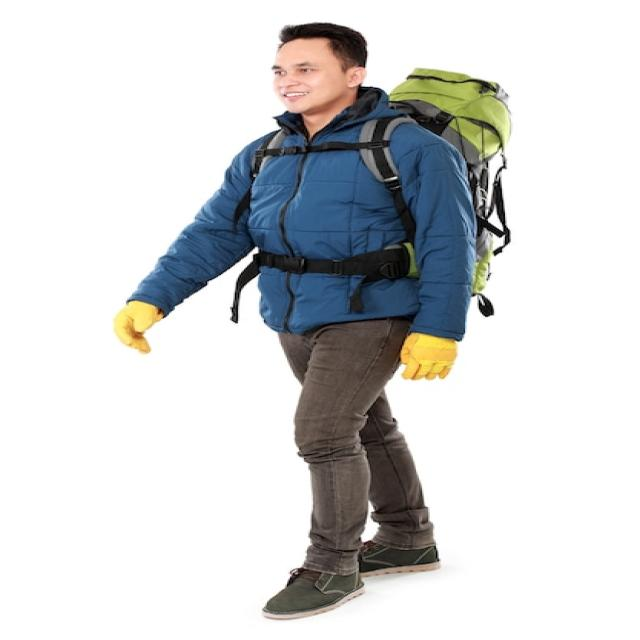backpack: (374, 63, 542, 374)
